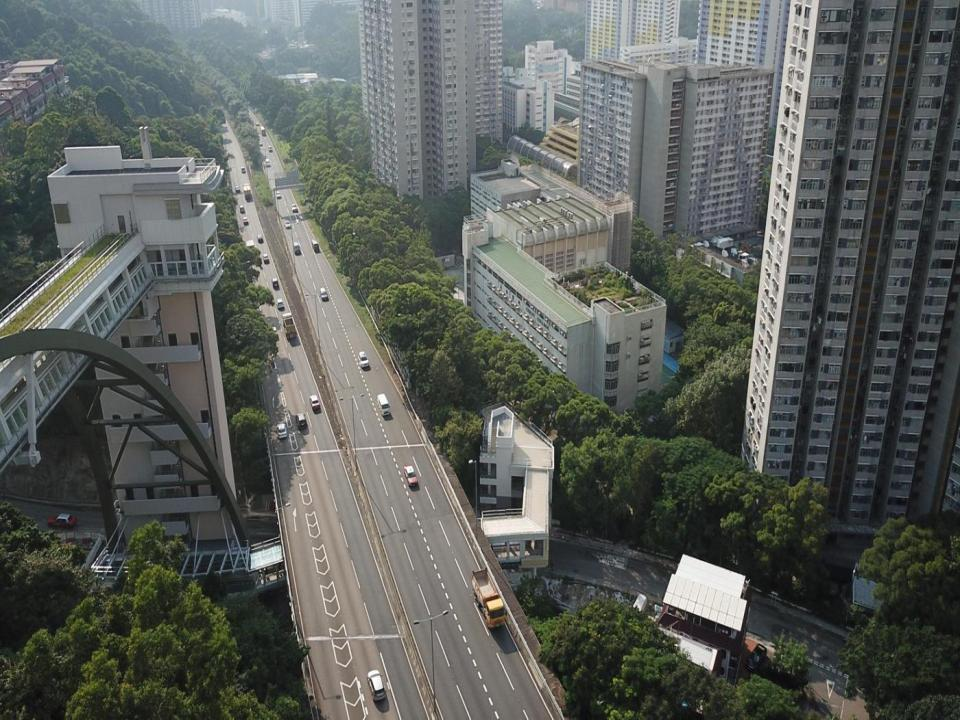bus: (376, 393, 390, 416), (312, 239, 320, 252), (259, 125, 266, 136)
car: (366, 669, 387, 702), (745, 642, 767, 672), (47, 514, 78, 529), (403, 464, 419, 487), (295, 412, 308, 430), (308, 394, 322, 410), (357, 351, 370, 368), (276, 423, 288, 440), (275, 297, 285, 309), (270, 277, 279, 289), (262, 252, 269, 264), (284, 220, 292, 229), (292, 201, 298, 213), (256, 233, 263, 243), (256, 139, 264, 147), (234, 185, 241, 194), (275, 190, 282, 199), (243, 216, 249, 226), (265, 157, 271, 167), (239, 204, 244, 214), (240, 166, 246, 174), (268, 144, 274, 152), (254, 120, 260, 127)
truck: (470, 568, 508, 630), (280, 312, 298, 339), (243, 183, 253, 201)
van: (292, 241, 301, 256), (319, 287, 328, 301)
